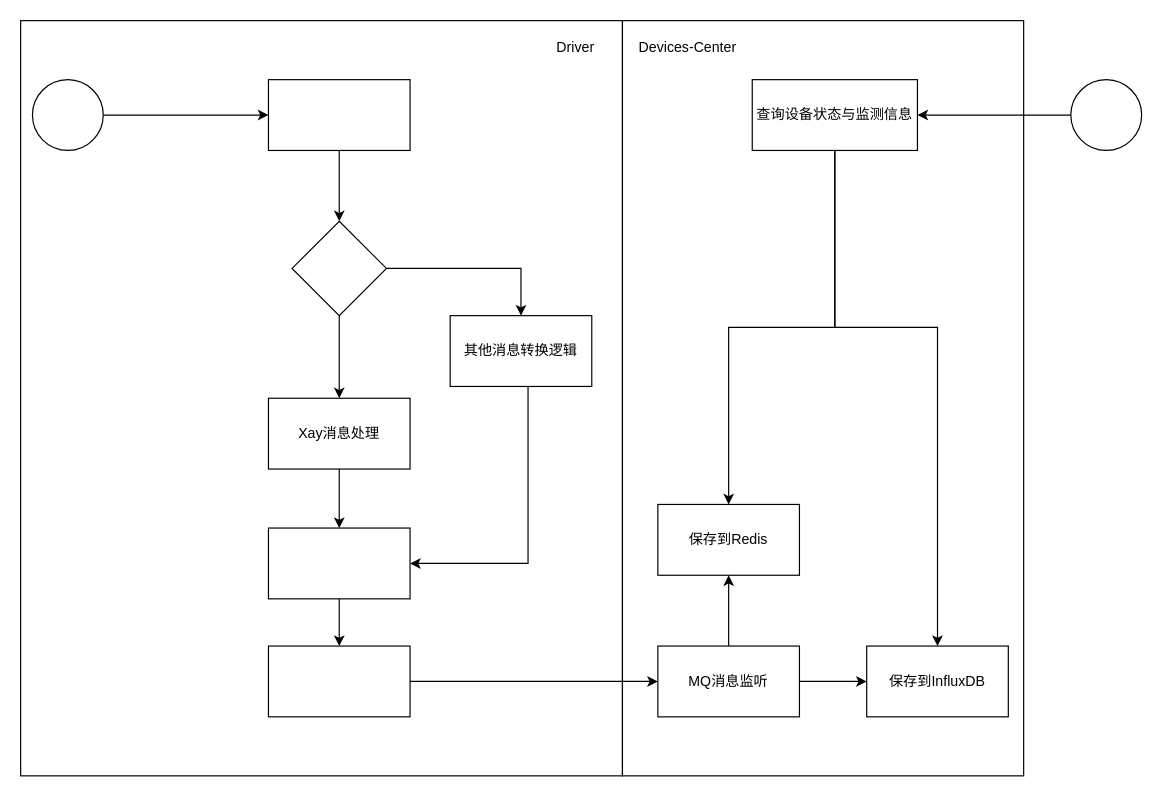
Image size: 1162x796. Some labels were removed from this diagram. Here are the shapes that lost their labels. From the top down, the centre of each, then its label:
(x=338, y=114): MQTTClient
(x=338, y=563): 转换为多个PointValueList
(x=338, y=681): RabbitMQ指定的Topic中
